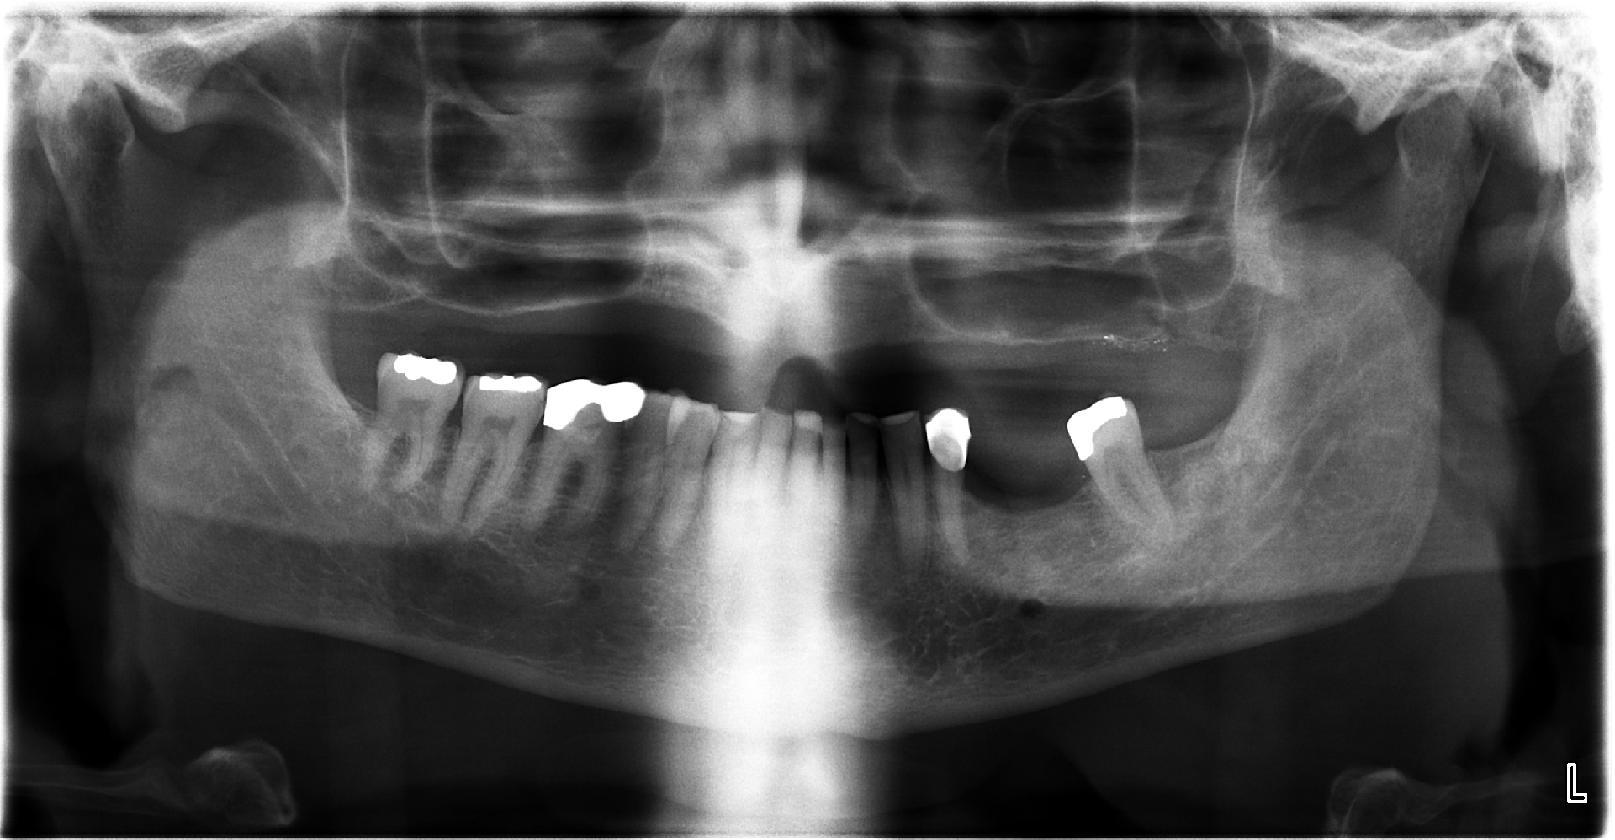Erupted: (354, 344, 464, 504)
